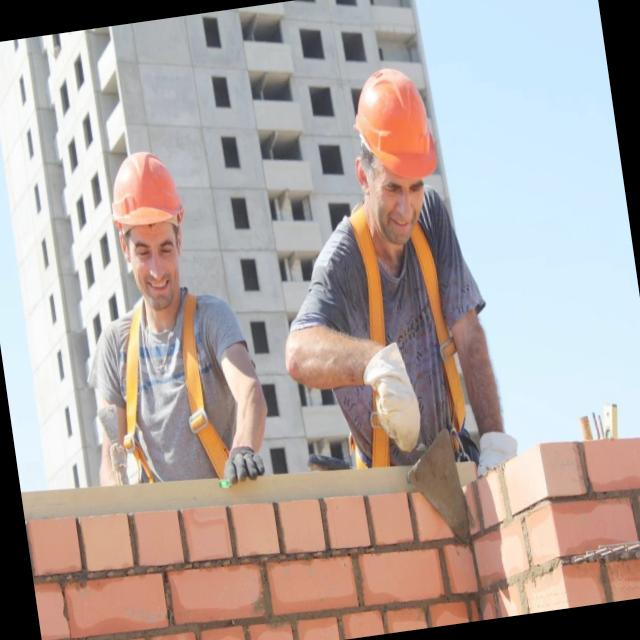Helmet: (349, 62, 439, 184), (104, 149, 189, 241)
NoJacket: (327, 196, 481, 463), (108, 243, 241, 485)
